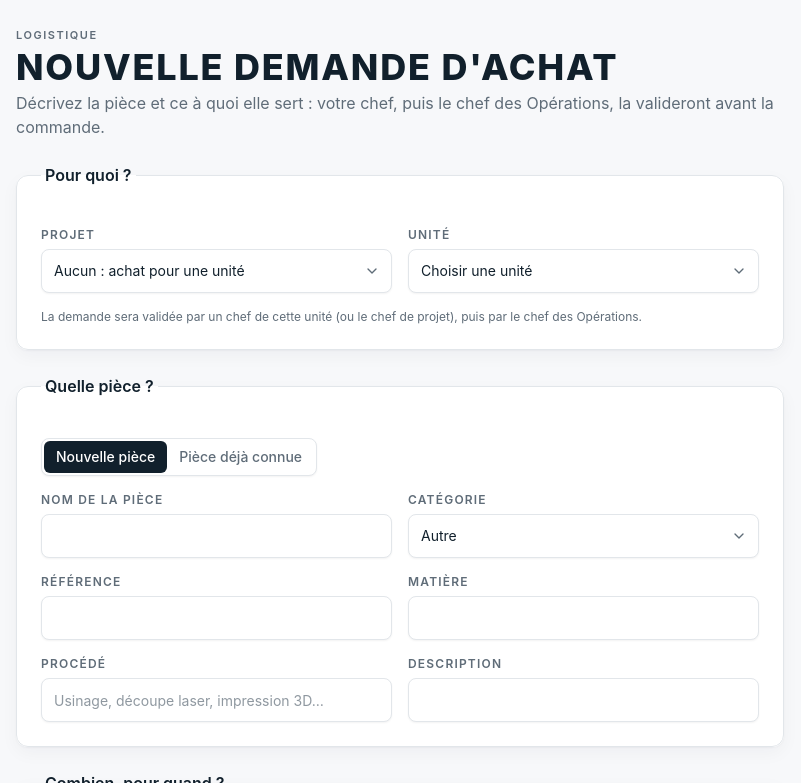
Scenario: PurchaseForm › shows the API's refusal
Select "Opérations & Partenariats" in the dropdown labelled "Unité" at (584, 271), box [408, 249, 759, 293]
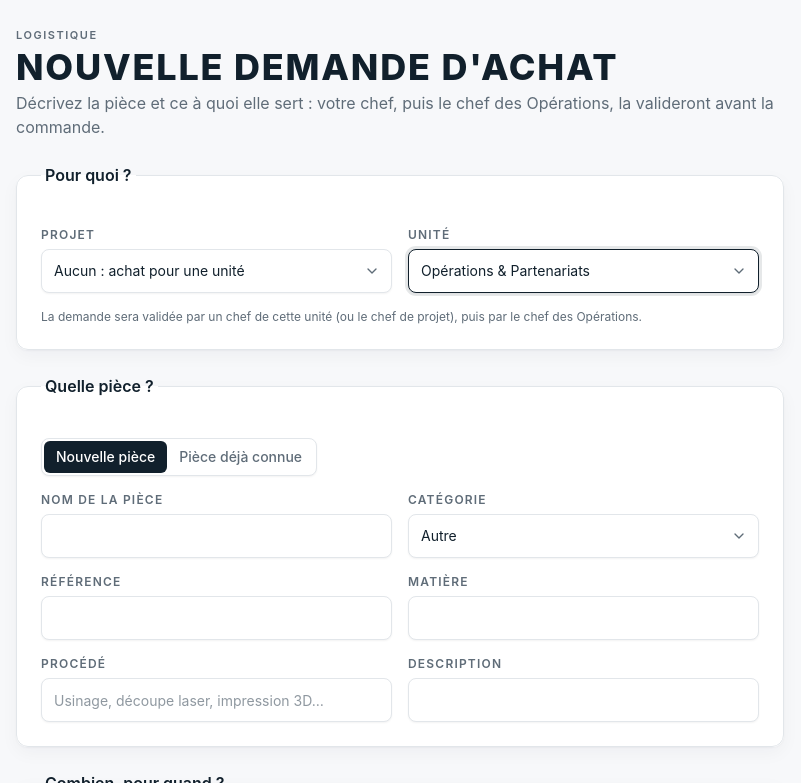
Type "Busbar" into the field labelled "Nom de la pièce" at (216, 536), box [41, 514, 392, 558]
(page scrolled)
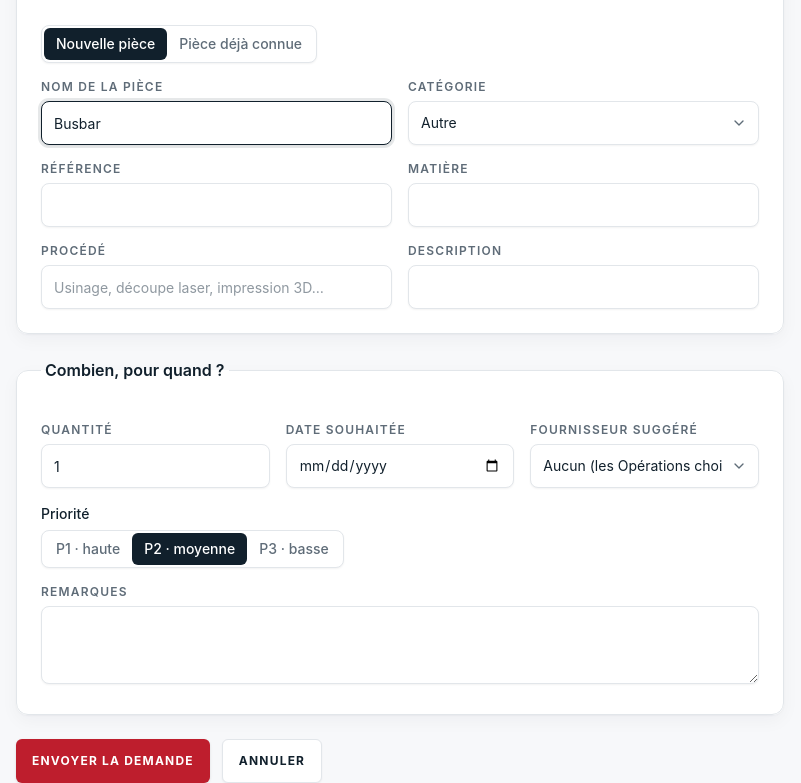
Click the button "Envoyer la demande" at (113, 761), box [16, 739, 210, 782]
(page scrolled)
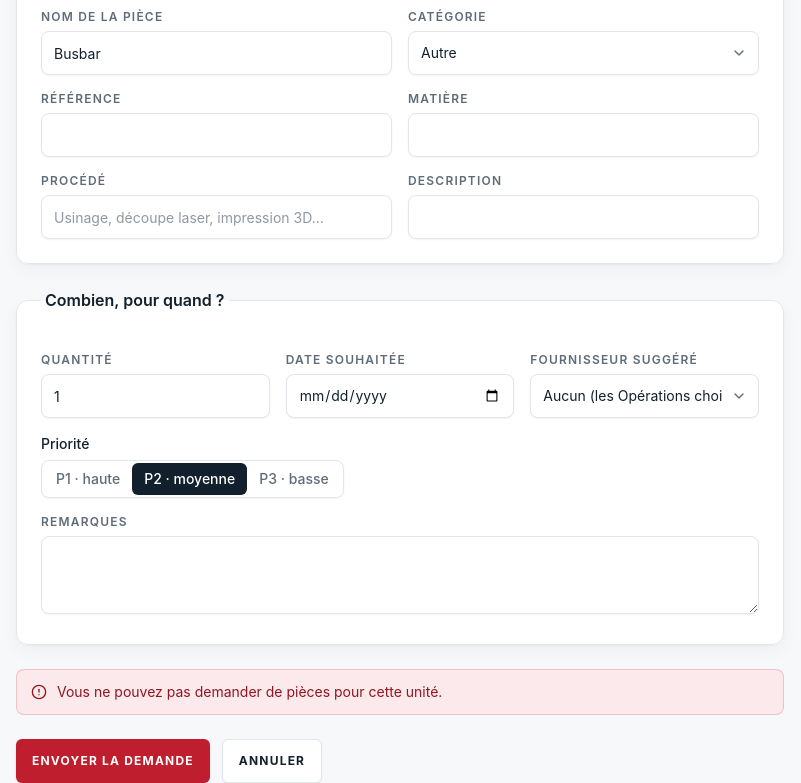
Check: the message reads "Vous ne pouvez pas demander de pièces pour cette unité.", box [57, 683, 442, 700]
